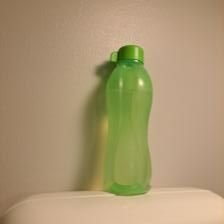bottle: (104, 42, 155, 194)
